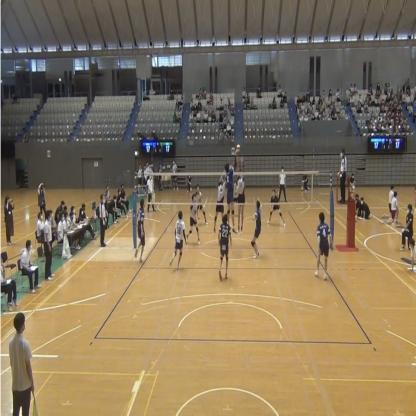spike: (223, 142, 244, 236)
